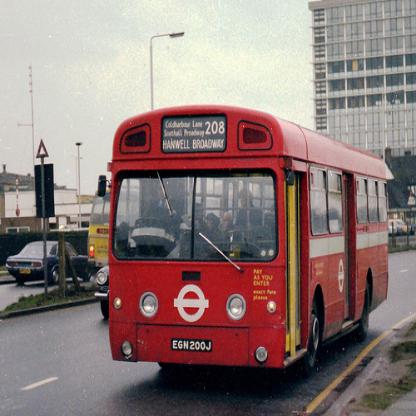bus: (107, 106, 388, 372), (88, 189, 140, 267)
car: (5, 241, 91, 285), (96, 263, 110, 318)
